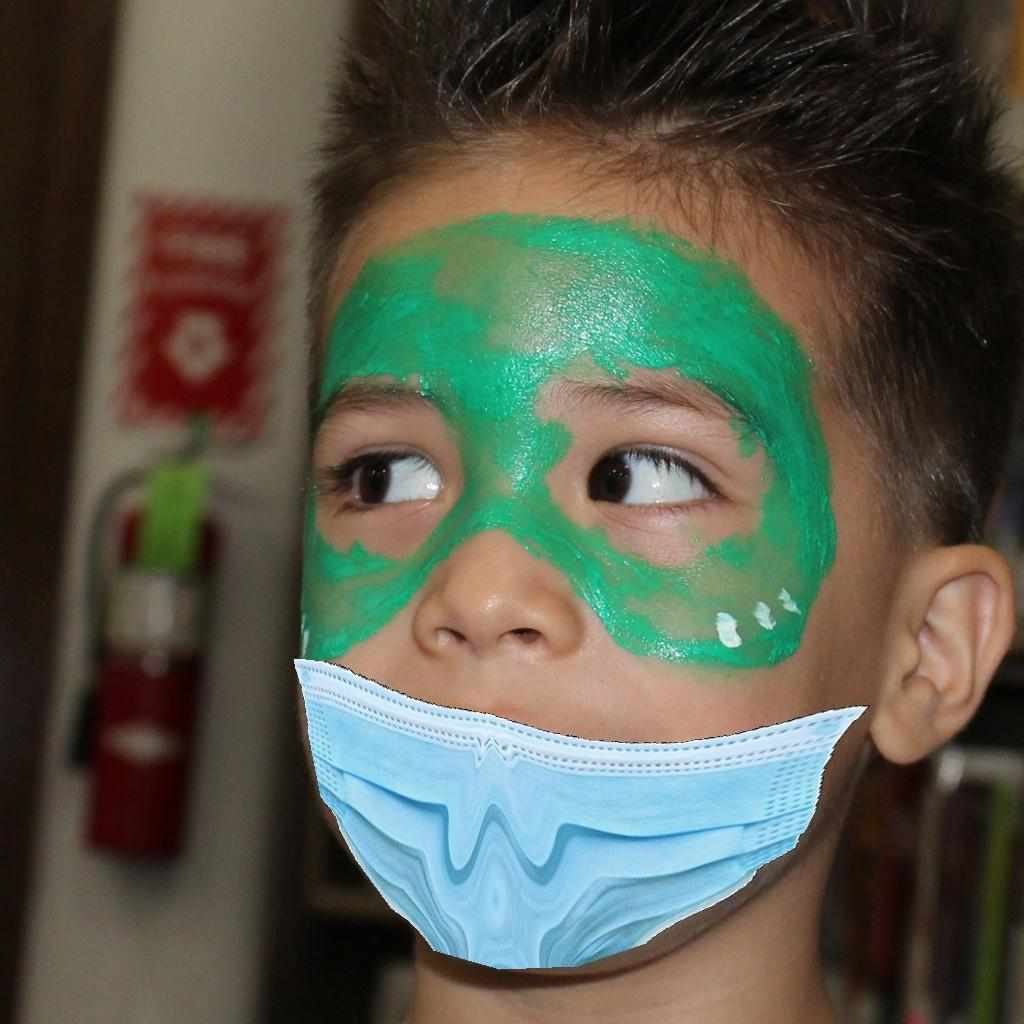Máscara Incorreta: (269, 267, 866, 978)
